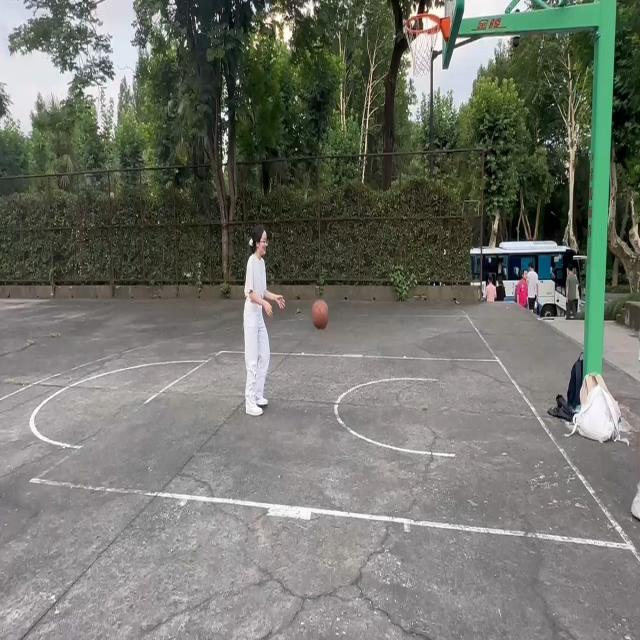basketball: (404, 12, 453, 74)
rim: (312, 300, 328, 331)
